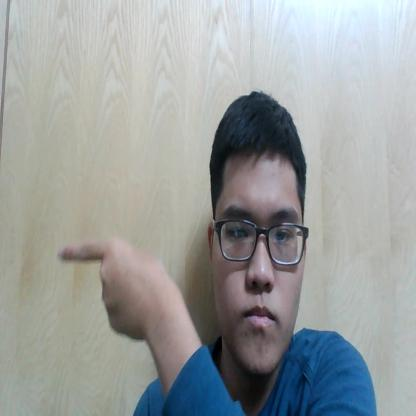right: (52, 232, 185, 357)
